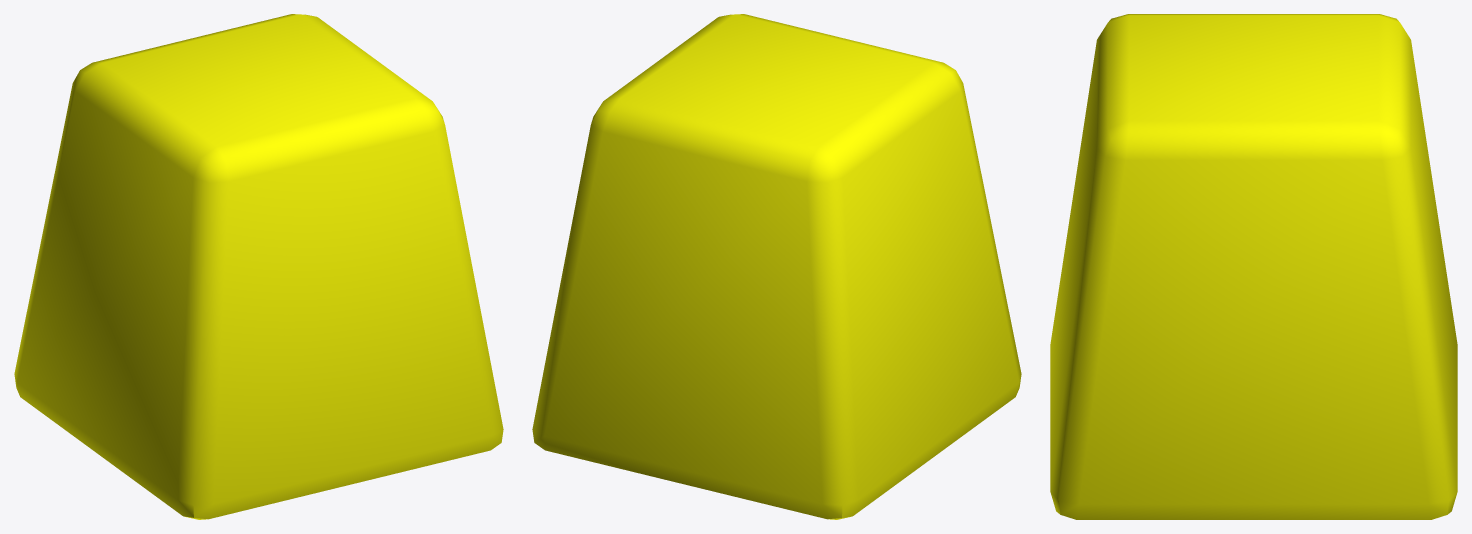
The model's file is kaykit-rock-2-d-color-1.glb.
The picture shows the model from 3 angles, left to right: view 1: azimuth 30°, elevation 25°; view 2: azimuth 150°, elevation 25°; view 3: azimuth 270°, elevation 25°; orthographic projection. The views are drawn at different scales.
Visible parts, largest first — view 1: Rock_2_D_Color1; view 2: Rock_2_D_Color1; view 3: Rock_2_D_Color1.
Part boxes in pixels (x1,y1,x2,y2): Rock_2_D_Color1: (14, 14, 503, 519); Rock_2_D_Color1: (532, 14, 1021, 519); Rock_2_D_Color1: (1050, 14, 1457, 519).
Bounding box in the file's own units: 1.71 × 1.74 × 1.71.
